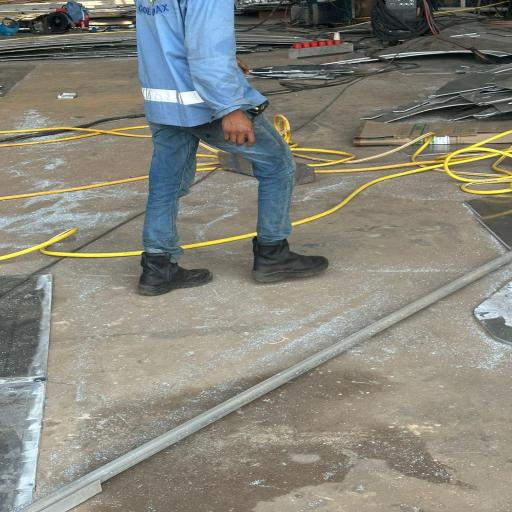safety_shoe: (250, 233, 332, 291), (135, 249, 221, 301)
